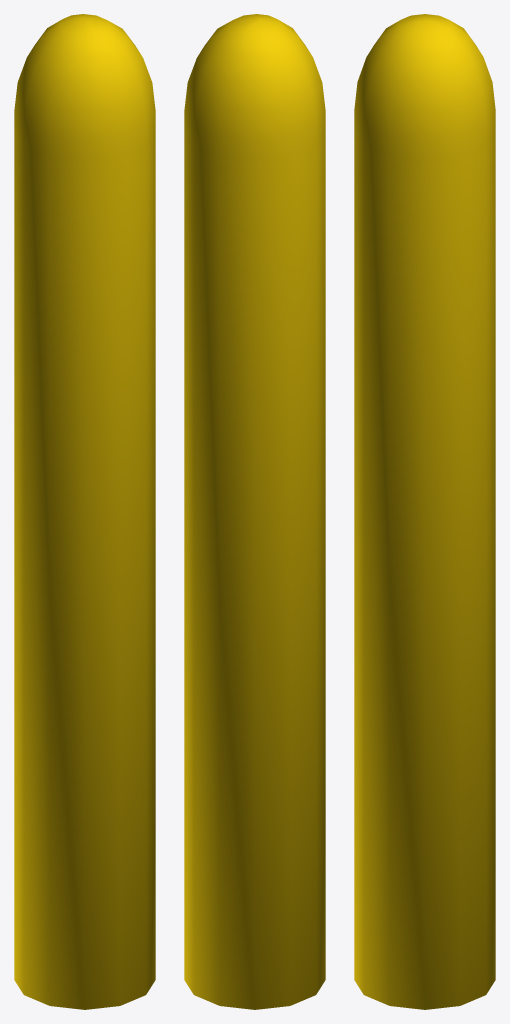
3 views of the same model, side by side, from view 1: azimuth 30°, elevation 25°; view 2: azimuth 150°, elevation 25°; view 3: azimuth 270°, elevation 25° (orthographic).
Parts seen in each view (by area): view 1: 圓柱體; view 2: 圓柱體; view 3: 圓柱體.
Boxes of the visible parts, bbox=[...] form: 圓柱體: bbox=[14, 14, 155, 1009]; 圓柱體: bbox=[184, 14, 325, 1009]; 圓柱體: bbox=[354, 14, 495, 1009].
Size of the model in its own units: 200 by 200 by 1500.
Materials: 1 (1 with a texture image).
